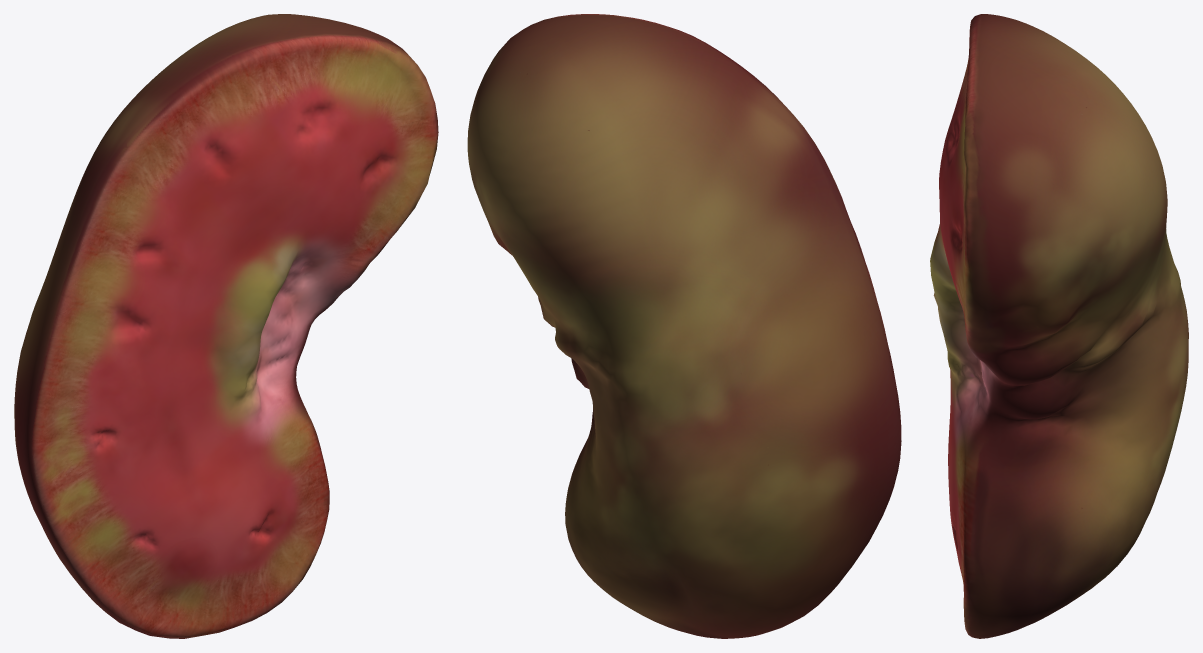
The model's file is 14_pyelonefrit.glb.
The picture shows the model from 3 angles, left to right: view 1: azimuth 30°, elevation 25°; view 2: azimuth 150°, elevation 25°; view 3: azimuth 270°, elevation 25°; orthographic projection. The views are drawn at different scales.
Parts seen in each view (by area): view 1: pyelonefrit; view 2: pyelonefrit; view 3: pyelonefrit.
Boxes of the visible parts, x1,y1,x2,y2 form: pyelonefrit: [14, 14, 438, 638]; pyelonefrit: [467, 14, 901, 638]; pyelonefrit: [930, 14, 1188, 638].
Size of the model in its own units: 0.3699 by 0.5014 by 0.1909.
1 material, 1 textured.
